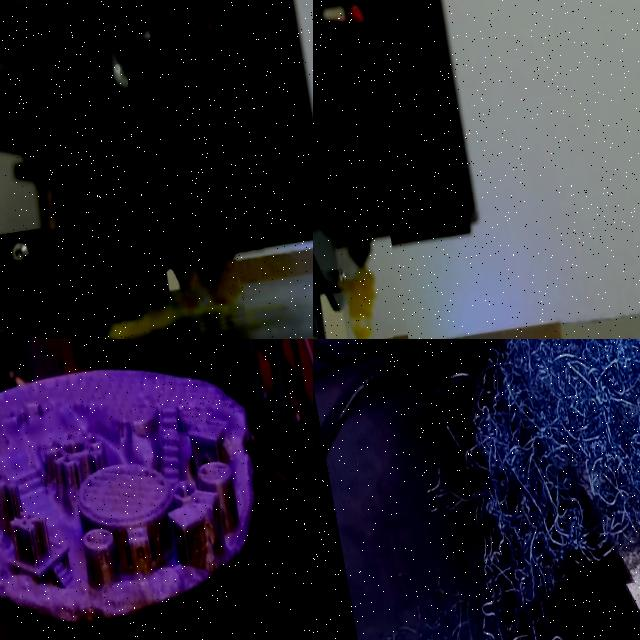spaghetti: (470, 339, 640, 606), (109, 260, 242, 339), (384, 602, 500, 640)
